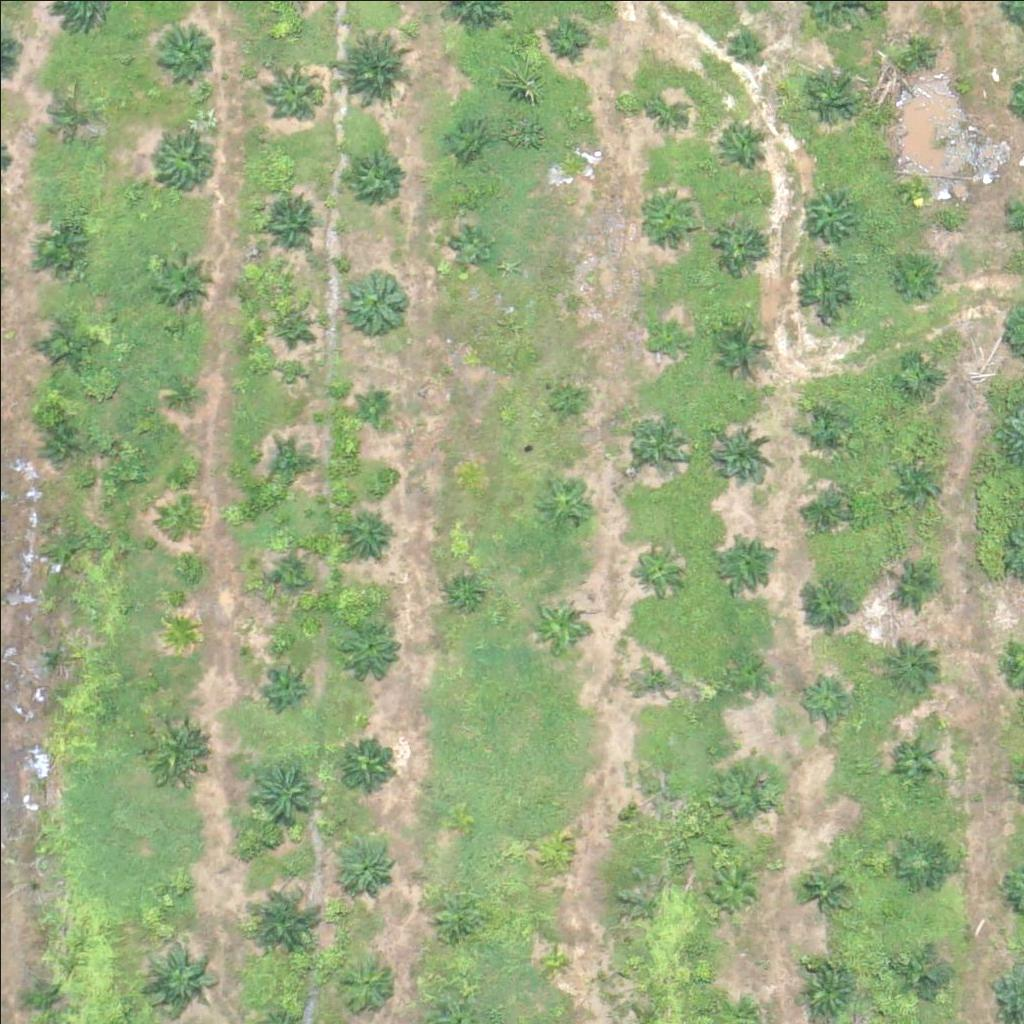Kelapa_Sawit: (239, 876, 326, 964), (143, 937, 218, 1013), (340, 26, 415, 101), (248, 758, 323, 833), (346, 274, 409, 337), (535, 470, 598, 533), (792, 256, 855, 319), (337, 952, 400, 1015), (334, 835, 397, 898), (143, 718, 206, 781), (876, 632, 939, 695), (718, 761, 781, 824), (528, 593, 591, 656), (797, 563, 860, 626), (714, 525, 776, 588), (346, 147, 408, 210), (801, 64, 863, 127), (713, 312, 775, 375), (626, 411, 688, 474), (710, 428, 772, 491), (341, 615, 403, 678), (337, 732, 399, 795), (263, 190, 325, 253), (153, 246, 215, 309), (33, 213, 95, 276), (155, 126, 217, 189), (151, 15, 213, 78), (261, 61, 323, 124), (795, 959, 857, 1022), (701, 858, 763, 921), (34, 312, 96, 375), (796, 178, 858, 240), (632, 544, 682, 595), (347, 506, 397, 557), (270, 436, 320, 487), (895, 836, 945, 887), (897, 954, 947, 1005), (18, 972, 68, 1023), (802, 865, 852, 916), (628, 650, 678, 701), (716, 652, 766, 703), (798, 675, 848, 726), (890, 733, 940, 784), (893, 257, 943, 307), (894, 353, 944, 403), (712, 222, 762, 272), (642, 190, 692, 240), (266, 657, 316, 707), (433, 898, 483, 948), (49, 88, 99, 138), (889, 31, 939, 81), (269, 294, 319, 344), (265, 543, 315, 593), (800, 487, 850, 537), (798, 403, 848, 453), (892, 467, 942, 517), (887, 562, 937, 612), (717, 118, 767, 168), (726, 28, 764, 66), (162, 612, 200, 650), (40, 423, 78, 461), (160, 490, 198, 528), (161, 370, 199, 408), (44, 532, 82, 570), (532, 940, 570, 978), (536, 840, 574, 878), (445, 569, 483, 607), (649, 317, 687, 355), (551, 134, 589, 172), (645, 92, 683, 130), (447, 118, 484, 156), (546, 21, 584, 58), (36, 638, 73, 676), (355, 386, 392, 424), (630, 788, 667, 826), (547, 381, 584, 418), (452, 231, 489, 268), (165, 873, 190, 898), (905, 181, 930, 206)
